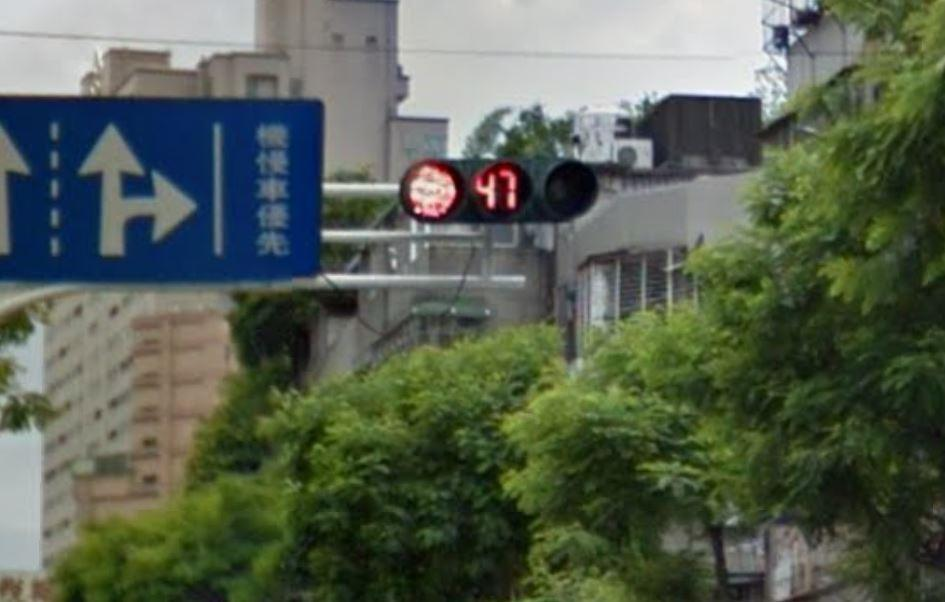red_traffic_light: (395, 155, 598, 222)
